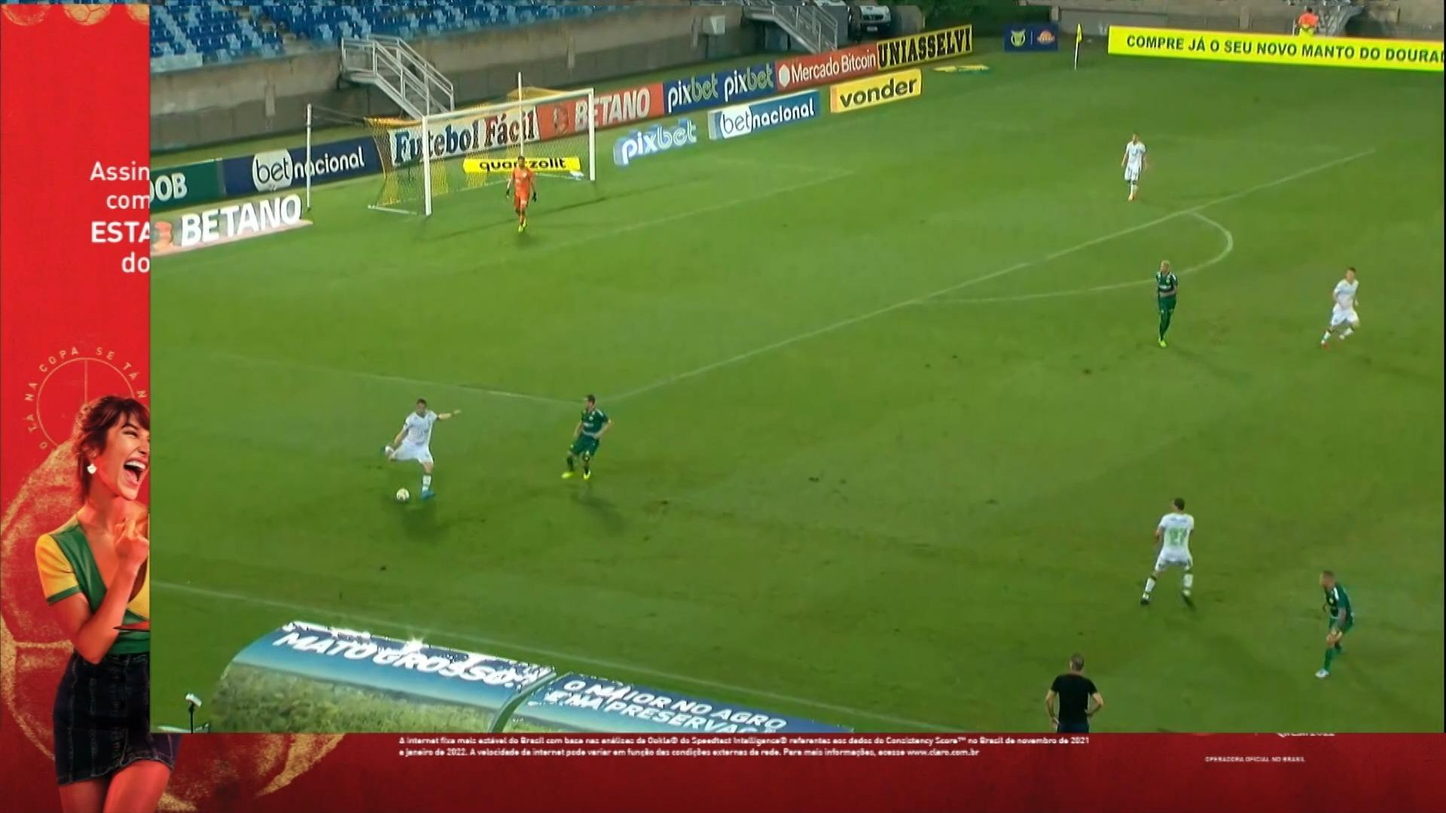objects: (0, 4, 1445, 812)
